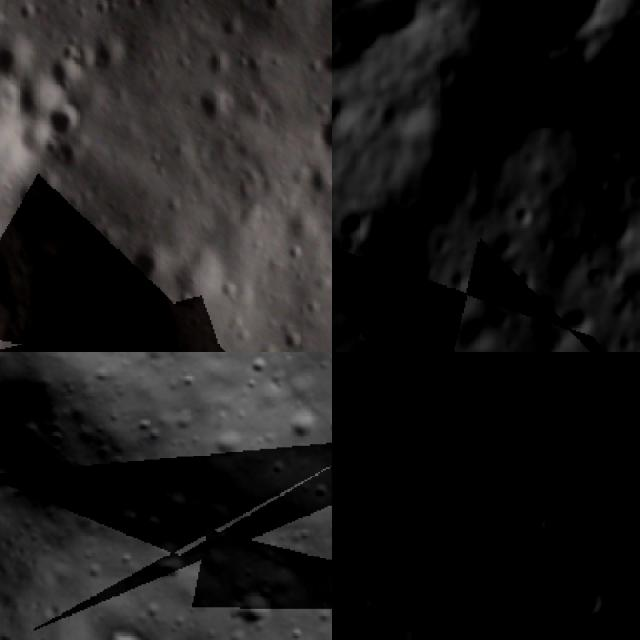crater: (19, 234, 216, 352), (542, 0, 640, 186), (423, 0, 640, 77), (523, 561, 619, 640), (0, 62, 31, 234), (497, 488, 566, 563), (218, 574, 287, 640), (571, 595, 640, 640), (34, 92, 90, 145), (419, 467, 475, 518), (38, 47, 91, 99), (0, 26, 40, 92), (520, 281, 566, 338), (354, 597, 414, 640), (595, 199, 640, 248), (552, 290, 597, 338), (480, 221, 530, 264), (332, 191, 374, 240), (0, 352, 33, 412), (499, 193, 545, 235), (301, 103, 332, 162), (567, 209, 609, 250), (332, 518, 360, 578), (332, 365, 354, 439), (332, 76, 359, 134), (111, 615, 172, 640), (613, 459, 640, 505), (534, 360, 568, 396), (613, 163, 640, 207), (418, 366, 450, 399), (389, 335, 451, 352), (377, 372, 409, 404), (343, 586, 374, 619), (231, 0, 286, 18), (408, 598, 438, 630), (576, 335, 623, 352), (448, 561, 472, 587), (542, 413, 566, 438), (450, 352, 481, 364)
